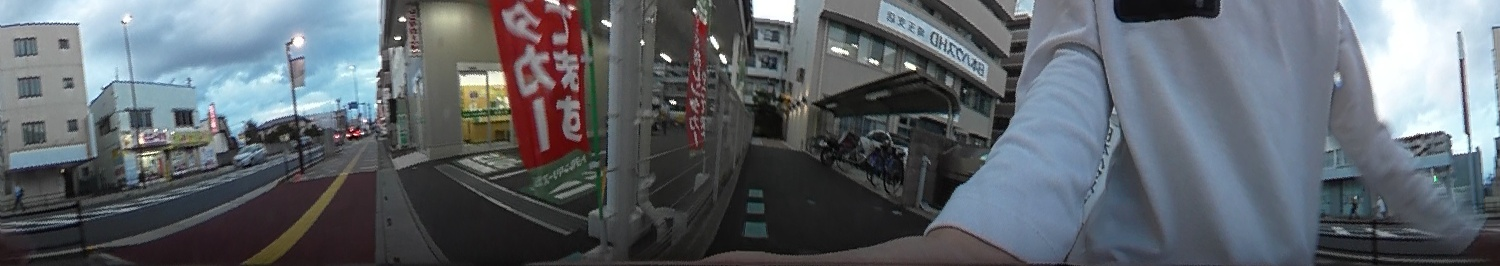difficult_person: (11, 180, 26, 212)
